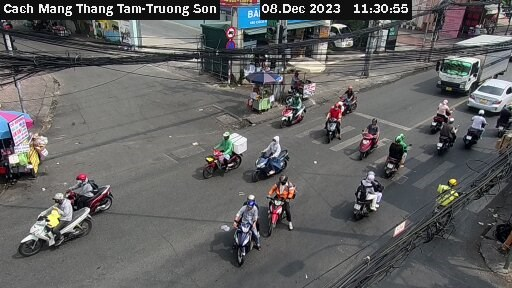car: (468, 79, 512, 112)
motorbike: (19, 198, 103, 253), (65, 174, 137, 220), (221, 200, 269, 267), (258, 185, 303, 234), (255, 138, 305, 180), (200, 137, 251, 177), (424, 175, 469, 218), (339, 176, 382, 217), (377, 133, 417, 174), (322, 104, 356, 147), (281, 96, 318, 134), (334, 84, 375, 116), (351, 119, 384, 157), (432, 115, 459, 155), (462, 110, 490, 145), (429, 96, 453, 128)
truck: (437, 35, 512, 93)
